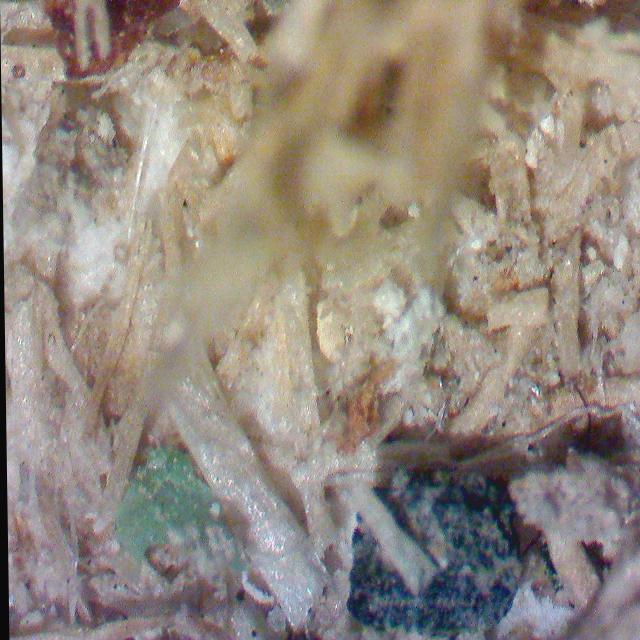microplastic: (88, 433, 233, 584)
